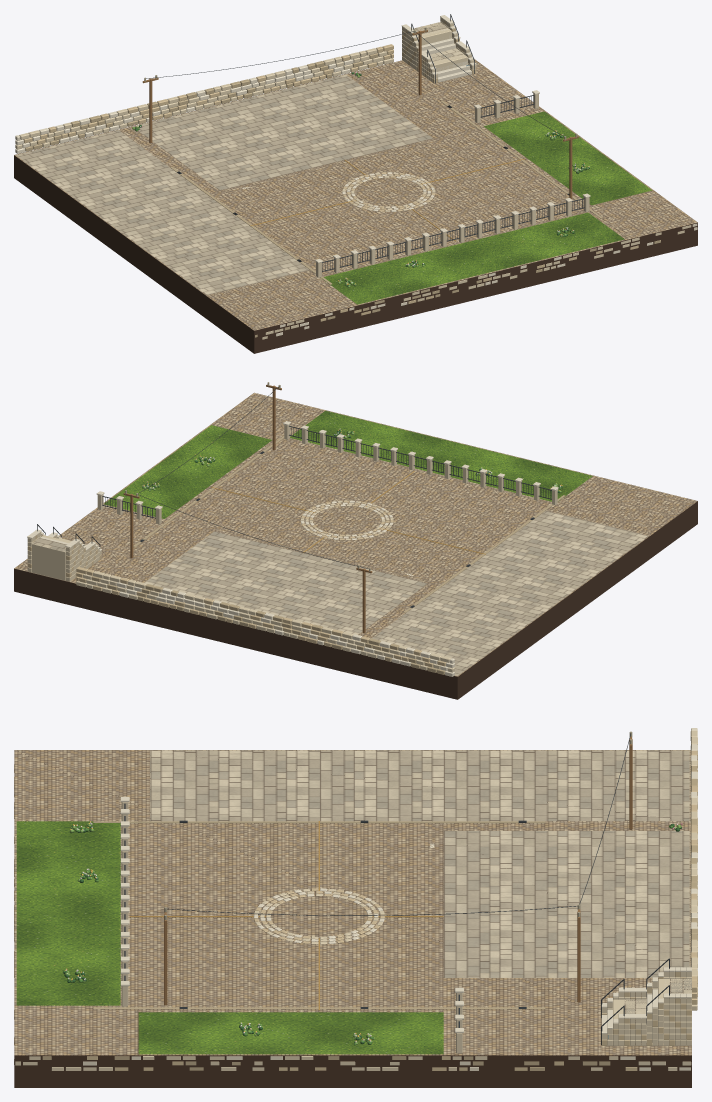
3 views of the same model, one above another, from view 1: azimuth 30°, elevation 25°; view 2: azimuth 150°, elevation 25°; view 3: azimuth 270°, elevation 25° (orthographic). The views are drawn at different scales.
Parts seen in each view (by area): view 1: square_cobbles, square_flags, square_grass, square_soil_dark, square_limestone, square_limestone_pale, square_limestone_shade, square_limestone_warm, square_iron, limestone, square_wood; view 2: square_cobbles, square_flags, square_soil_dark, square_grass, square_limestone, square_limestone_pale, square_limestone_shade, square_limestone_warm, square_iron, limestone, square_wood; view 3: square_cobbles, square_flags, square_grass, square_soil_dark, square_limestone, square_limestone_shade, square_limestone_pale, limestone, square_limestone_warm, square_iron, limestone_warm, square_wood (+2 smaller).
Boxes of the visible parts, left/top/right/bottom form: square_cobbles: left=14, top=59, right=697, bottom=330; square_flags: left=16, top=22, right=463, bottom=295; square_grass: left=321, top=111, right=652, bottom=304; square_soil_dark: left=14, top=155, right=697, bottom=353; square_limestone: left=15, top=22, right=691, bottom=339; square_limestone_pale: left=15, top=29, right=697, bottom=336; square_limestone_shade: left=24, top=53, right=660, bottom=337; square_limestone_warm: left=23, top=44, right=638, bottom=321; square_iron: left=146, top=14, right=584, bottom=271; limestone: left=402, top=17, right=475, bottom=81; square_wood: left=142, top=29, right=578, bottom=199; square_cobbles: left=14, top=392, right=697, bottom=676; square_flags: left=31, top=510, right=648, bottom=675; square_soil_dark: left=14, top=501, right=697, bottom=699; square_grass: left=104, top=410, right=592, bottom=518; square_limestone: left=32, top=424, right=557, bottom=672; square_limestone_pale: left=40, top=421, right=558, bottom=676; square_limestone_shade: left=91, top=429, right=565, bottom=674; square_limestone_warm: left=76, top=500, right=446, bottom=667; square_iron: left=37, top=386, right=551, bottom=607; limestone: left=27, top=532, right=101, bottom=581; square_wood: left=123, top=384, right=372, bottom=633; square_cobbles: left=14, top=750, right=691, bottom=1055; square_flags: left=150, top=750, right=691, bottom=1022; square_grass: left=16, top=821, right=443, bottom=1054; square_soil_dark: left=14, top=1055, right=691, bottom=1087; square_limestone: left=14, top=730, right=697, bottom=1070; square_limestone_shade: left=14, top=760, right=697, bottom=1070; square_limestone_pale: left=14, top=728, right=697, bottom=1070; limestone: left=601, top=971, right=691, bottom=1045; square_limestone_warm: left=14, top=750, right=697, bottom=1070; square_iron: left=124, top=734, right=669, bottom=1044; limestone_warm: left=601, top=972, right=691, bottom=1045; square_wood: left=164, top=736, right=632, bottom=1005.
Bounding box in the file's own units: 32.01 × 6.14 × 30.28.
Materials: 20 (3 with a texture image).
